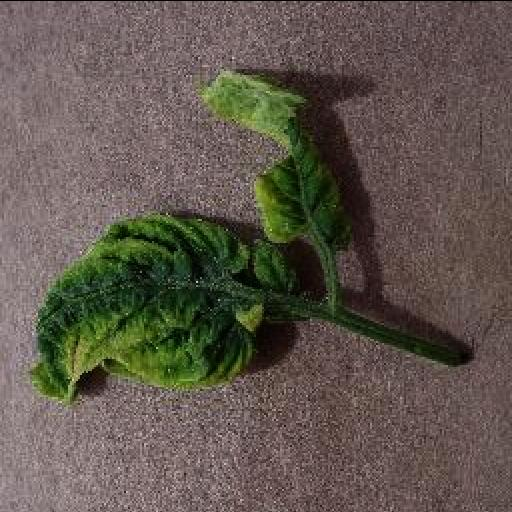disease_tomato: (28, 211, 298, 401), (203, 68, 353, 250)
